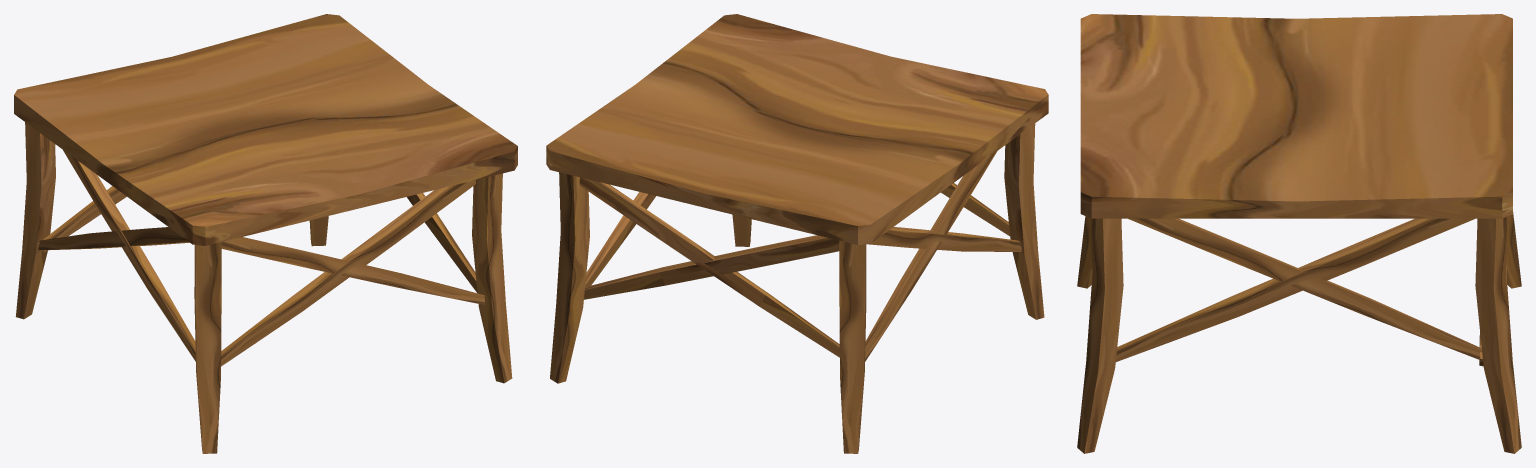
The model's file is Chtar_Setirna.fbx.
3 renders of one model, left to right at view 1: azimuth 30°, elevation 25°; view 2: azimuth 150°, elevation 25°; view 3: azimuth 270°, elevation 25°, orthographic. The views are drawn at different scales.
Parts seen in each view (by area): view 1: pCube1; view 2: pCube1; view 3: pCube1.
Boxes of the visible parts, box(x1,y1,x2,y2) form: pCube1: box(14, 14, 517, 453); pCube1: box(546, 14, 1048, 453); pCube1: box(1077, 14, 1521, 453).
Bounding box in the file's own units: 9.84 × 6.59 × 10.13.
